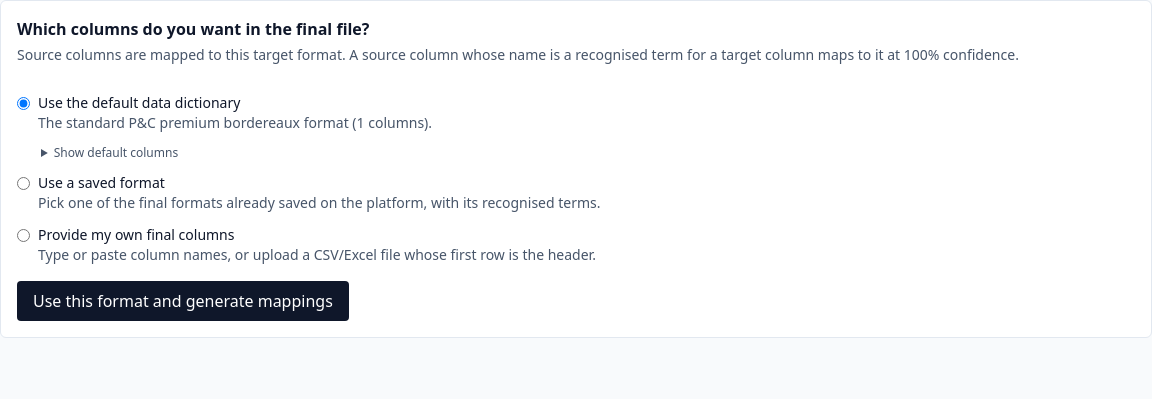
Test: TargetFormatChooser › lists the built-in recognised terms of the default columns
Click the heading "Show default columns": (116, 152) [54,144,178,161]
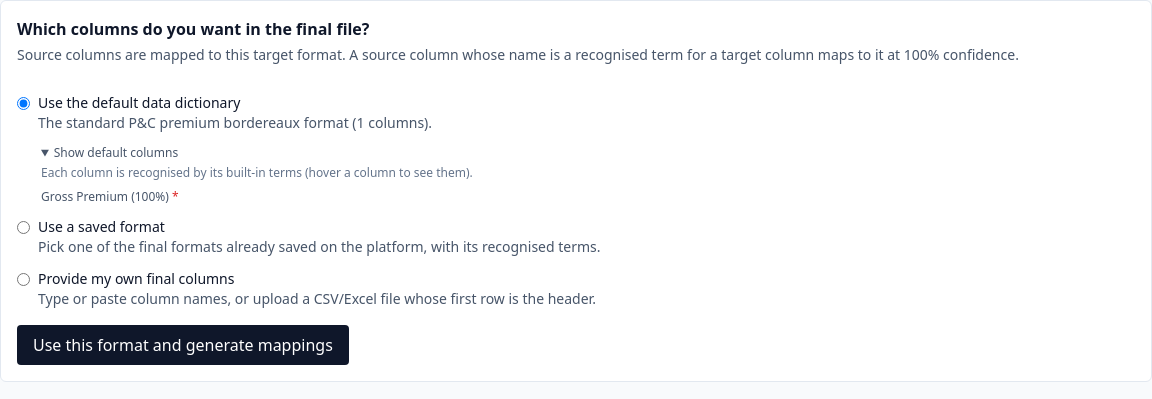
expect the list item titled "GWP, Prem" is shown: met, box [41,189,179,205]
